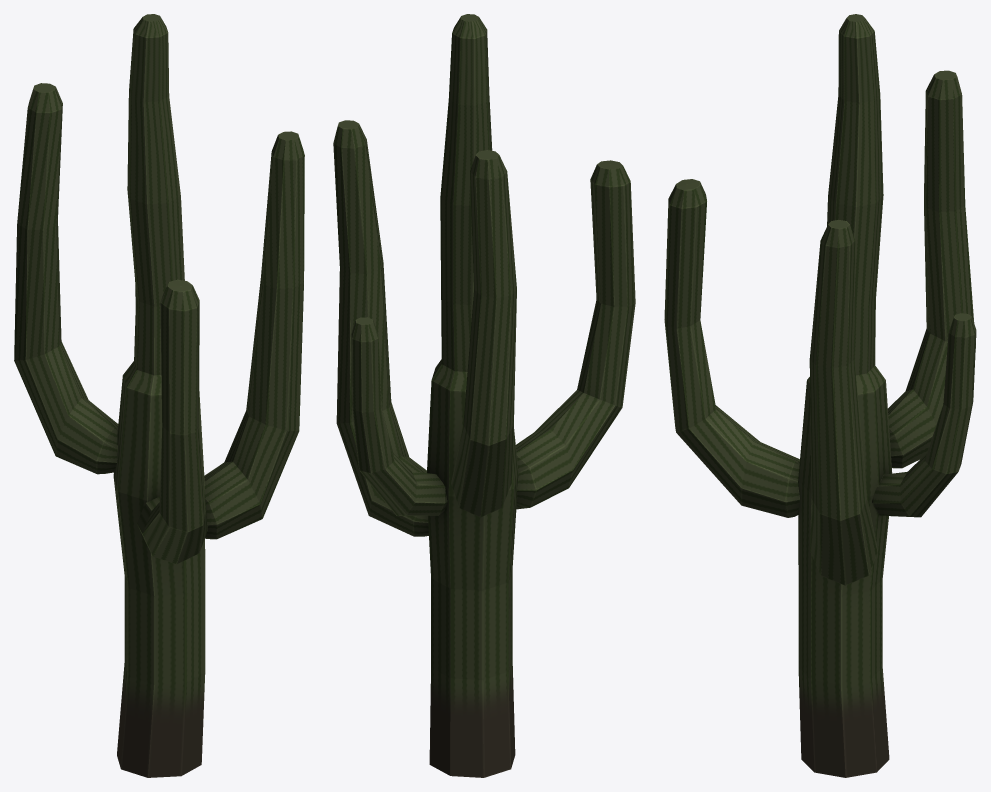
Rendered from modelDraco.gltf.
3 renders of one model, left to right at view 1: azimuth 30°, elevation 25°; view 2: azimuth 150°, elevation 25°; view 3: azimuth 270°, elevation 25°, orthographic.
Parts seen in each view (by area): view 1: node-0; view 2: node-0; view 3: node-0.
Boxes of the visible parts, <box> form: node-0: <box>14,14,304,777</box>; node-0: <box>333,14,635,777</box>; node-0: <box>664,14,976,777</box>.
Size of the model in its own units: 6.67 by 20.42 by 7.8.
Materials: 1 (1 with a texture image).
